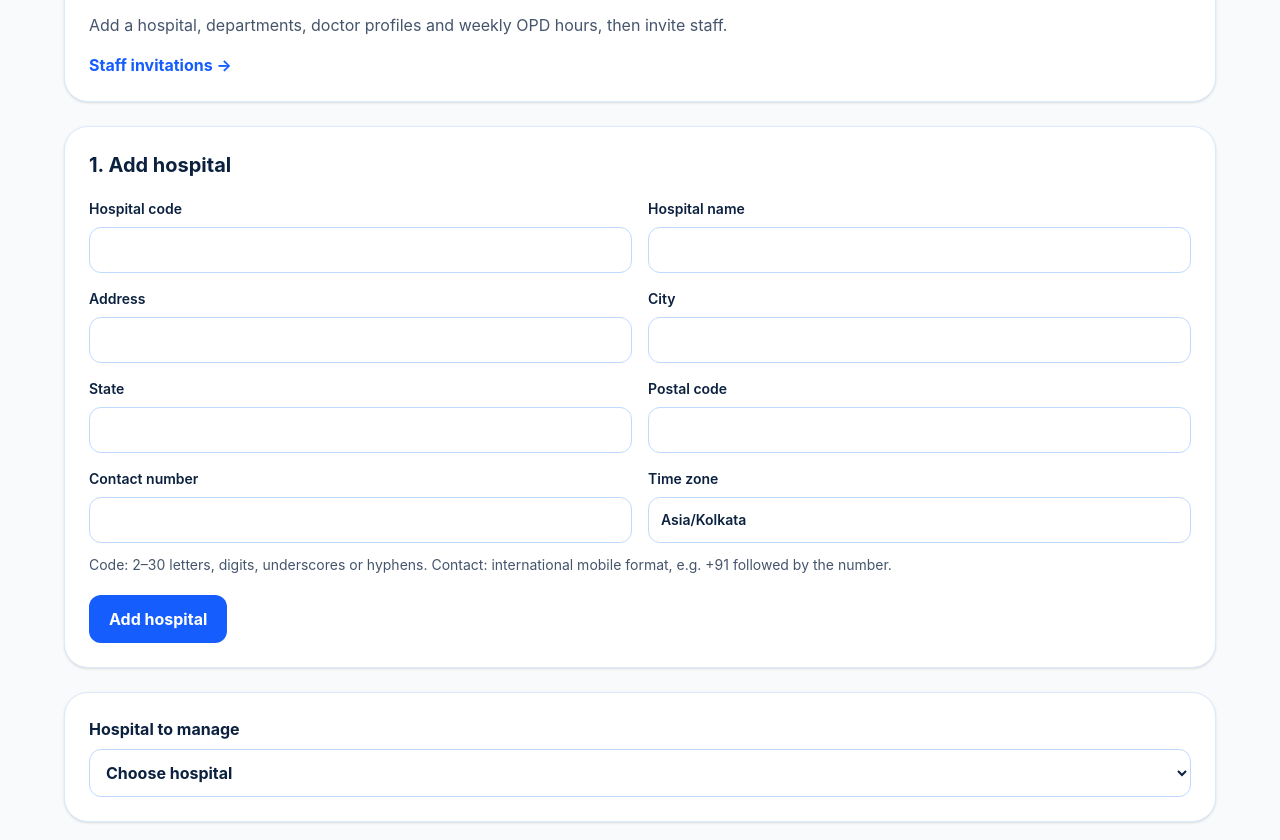
it: shows persisted OPD schedules from doctor details instead of the summary response
Step 1. Select "Test Hospital" in the dropdown labelled "Hospital to manage" → (640, 773), box [89,749,1191,797]
(page scrolled)
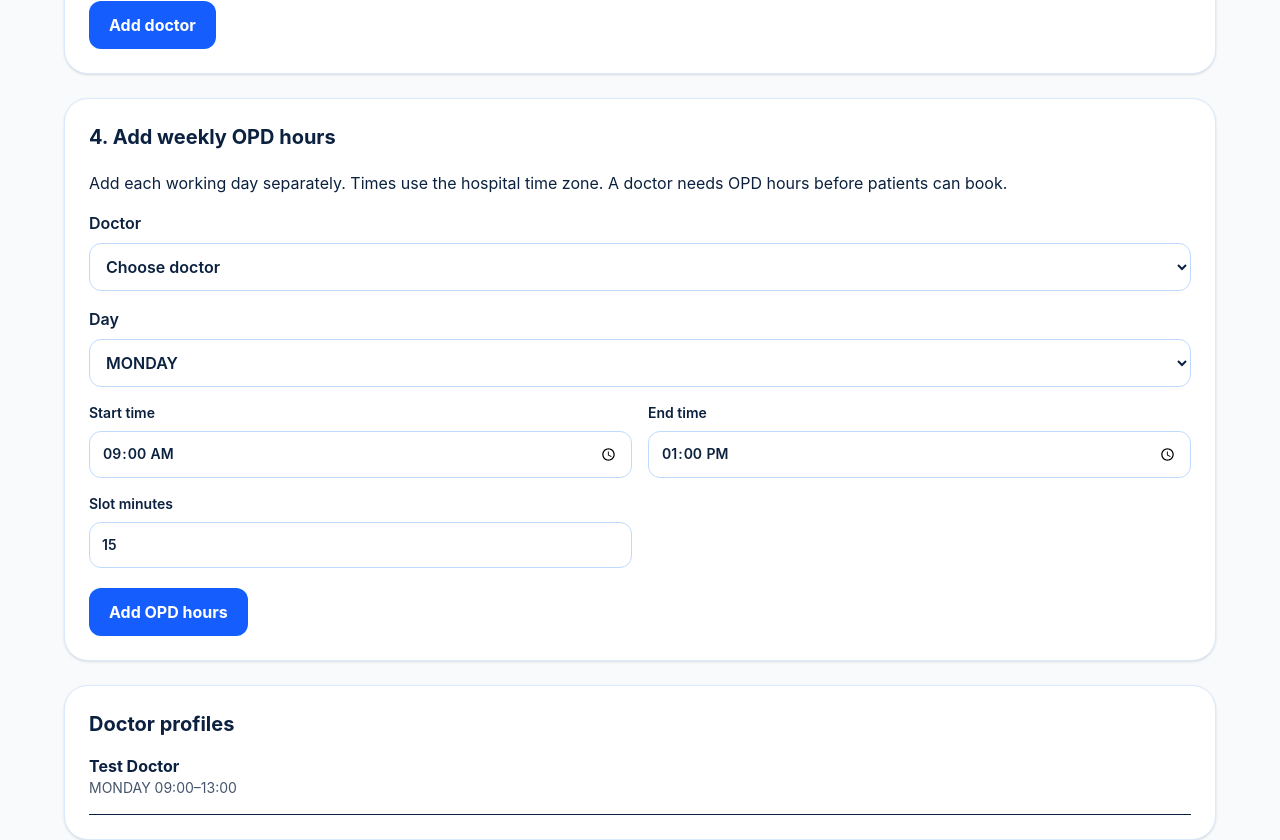
Now the text "MONDAY 09:00–13:00" is shown, box [89,779,237,796]
